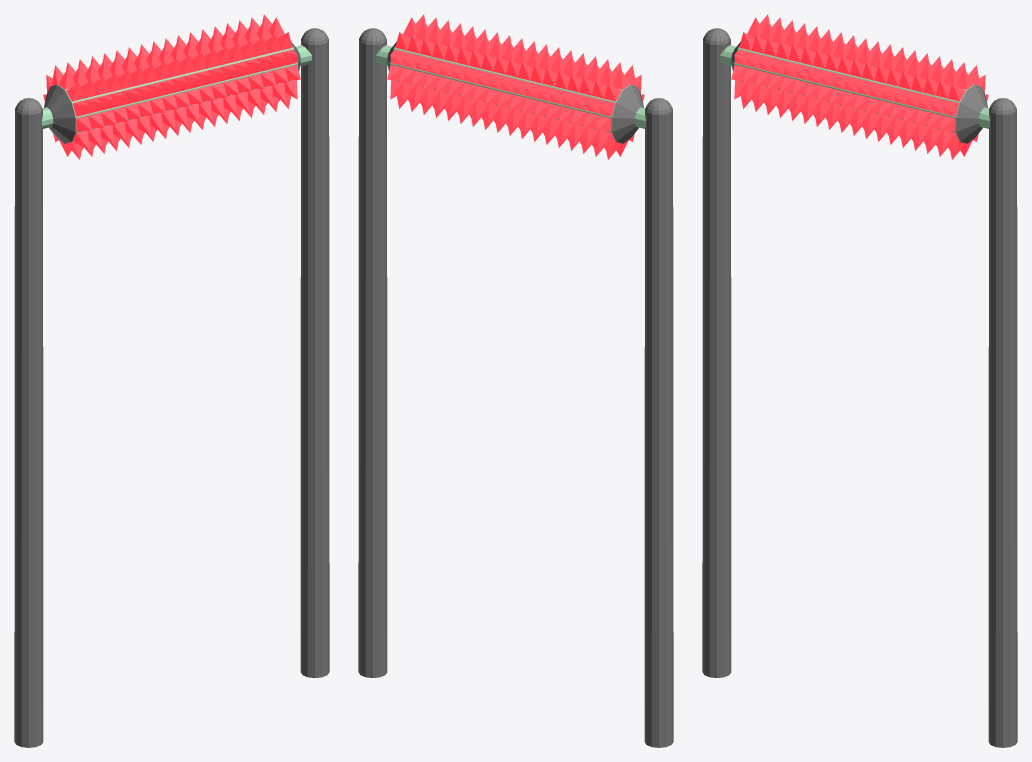
File: SpikeRollAsset.fbx
3 renders of one model, left to right at view 1: azimuth 30°, elevation 25°; view 2: azimuth 150°, elevation 25°; view 3: azimuth 330°, elevation 25°, orthographic.
Parts seen in each view (by area): view 1: Sphere.001; view 2: Sphere.001; view 3: Sphere.001.
Part boxes in pixels (box(x1,y1,x2,y2)): Sphere.001: box(14, 14, 329, 747); Sphere.001: box(358, 14, 673, 747); Sphere.001: box(702, 14, 1017, 747).
Size of the model in its own units: 1775 by 487 by 3621.
